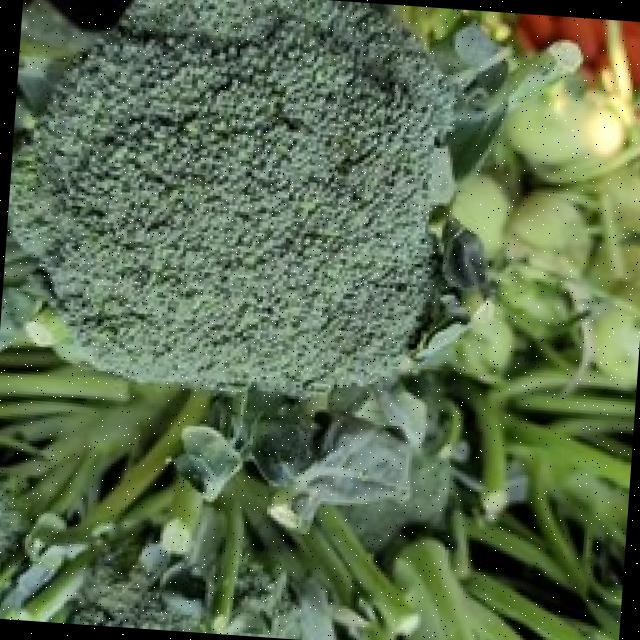Broccoli: (7, 0, 452, 393), (7, 0, 451, 393)
